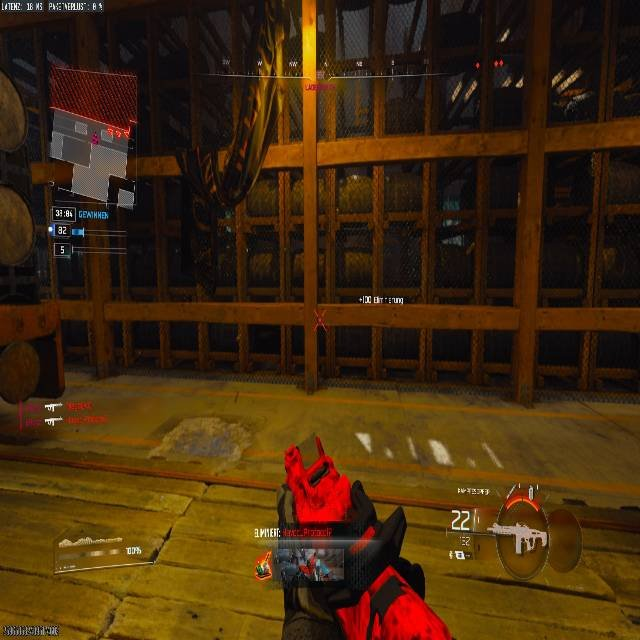head: (284, 432, 331, 487)
player: (271, 433, 427, 640)
